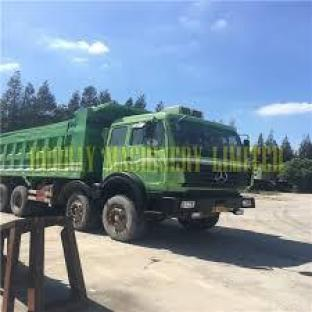Vehicle: (4, 109, 262, 240)
